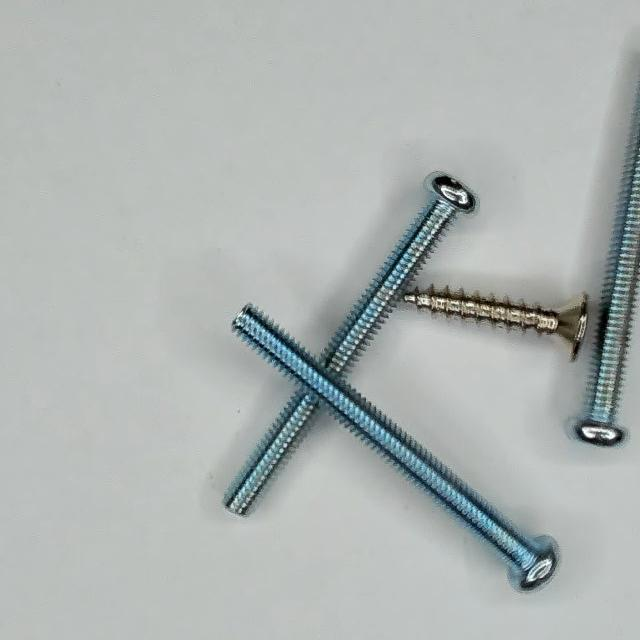Screw: (233, 305, 559, 590), (322, 172, 477, 378), (576, 85, 640, 446), (404, 288, 589, 360), (226, 391, 319, 516)
